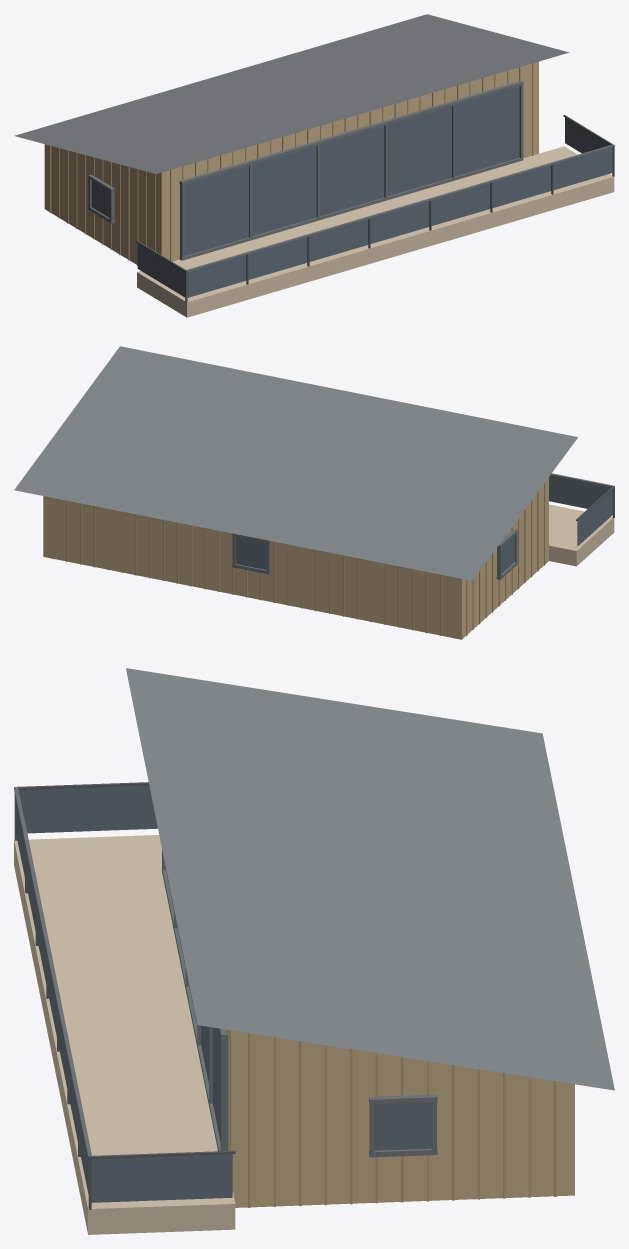
3 views of the same model, one above another, from view 1: azimuth 30°, elevation 25°; view 2: azimuth 150°, elevation 25°; view 3: azimuth 270°, elevation 25° (orthographic). The views are drawn at different scales.
Visible parts, largest first — view 1: slate, door_wood, larch, slate_dk, window_glass_011, window_glass_012, window_glass_014, window_glass_013, window_glass_010, door_wood_p, window_glass_001, window_glass_002 (+9 smaller); view 2: slate, door_wood, door_wood_p, larch, window_glass_001, slate_dk, window_glass_008, window_glass_016; view 3: slate, larch, door_wood, window_glass_009, slate_dk, window_glass_008, door_wood_p, window_glass_015, pipe, window_glass_014.
Part boxes in pixels (x1,y1,x2,y2): slate: [14, 14, 569, 173]; door_wood: [44, 61, 538, 264]; larch: [137, 146, 614, 317]; slate_dk: [88, 80, 614, 272]; window_glass_011: [252, 146, 316, 236]; window_glass_012: [320, 126, 384, 216]; window_glass_014: [455, 86, 519, 176]; window_glass_013: [387, 106, 451, 196]; window_glass_010: [184, 166, 248, 255]; door_wood_p: [49, 63, 533, 265]; window_glass_001: [187, 255, 246, 297]; window_glass_002: [248, 237, 307, 279]; slate: [14, 346, 577, 580]; door_wood: [43, 477, 548, 639]; door_wood_p: [52, 482, 545, 638]; larch: [549, 504, 614, 566]; window_glass_001: [549, 475, 610, 508]; slate_dk: [232, 473, 613, 579]; window_glass_008: [577, 489, 613, 546]; window_glass_016: [236, 536, 266, 569]; slate: [126, 668, 614, 1090]; larch: [14, 835, 235, 1234]; door_wood: [228, 1030, 574, 1207]; window_glass_009: [91, 1154, 232, 1202]; slate_dk: [14, 787, 437, 1157]; window_glass_008: [18, 785, 157, 833]; door_wood_p: [226, 1029, 556, 1207]; window_glass_015: [374, 1102, 432, 1150]; pipe: [14, 782, 235, 1209]; window_glass_014: [213, 1027, 220, 1141].
Size of the model in its own units: 15.93 by 3.88 by 10.57.
